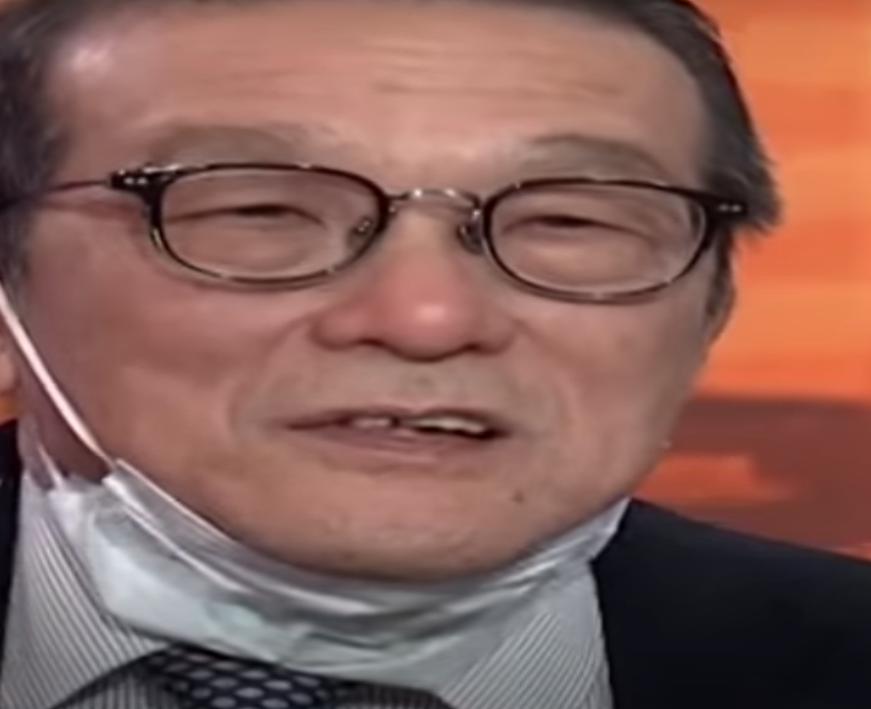mask_weared_incorrect: (1, 6, 774, 695)
